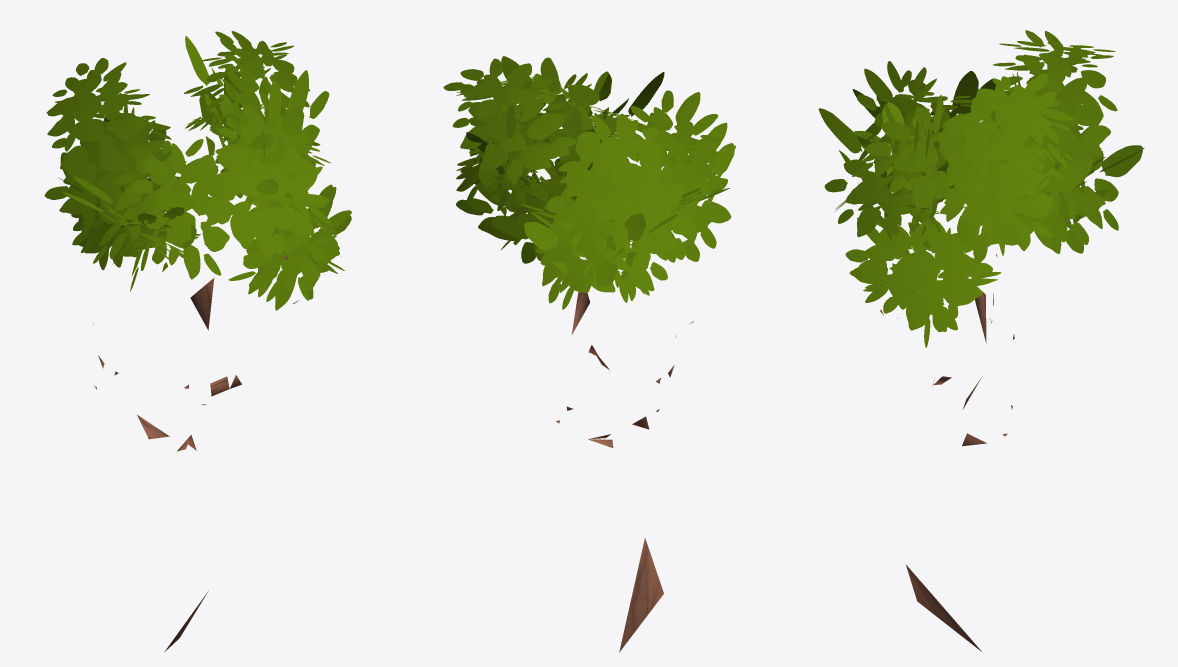
File: beringin-2-lod.glb
3 renders of one model, left to right at view 1: azimuth 30°, elevation 25°; view 2: azimuth 150°, elevation 25°; view 3: azimuth 270°, elevation 25°, orthographic. The views are drawn at different scales.
Visible parts, largest first — view 1: CommonTree_4; view 2: CommonTree_4; view 3: CommonTree_4.
Boxes of the visible parts, x1=… form: CommonTree_4: x1=44, y1=31, x2=351, y2=652; CommonTree_4: x1=443, y1=56, x2=735, y2=652; CommonTree_4: x1=818, y1=30, x2=1144, y2=652.
Size of the model in its own units: 7.47 by 13.4 by 6.92.
Materials: 2 (2 with a texture image).
